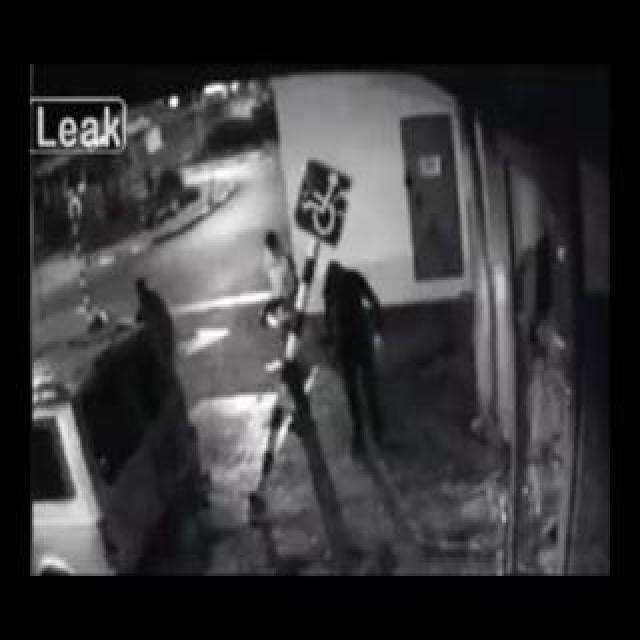thief: (250, 216, 361, 312), (128, 267, 169, 318)
